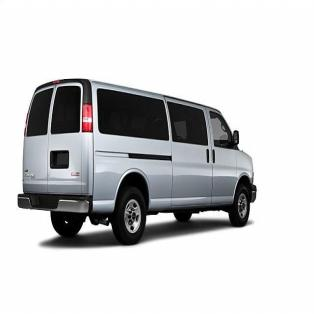Auto: (17, 77, 258, 247)
